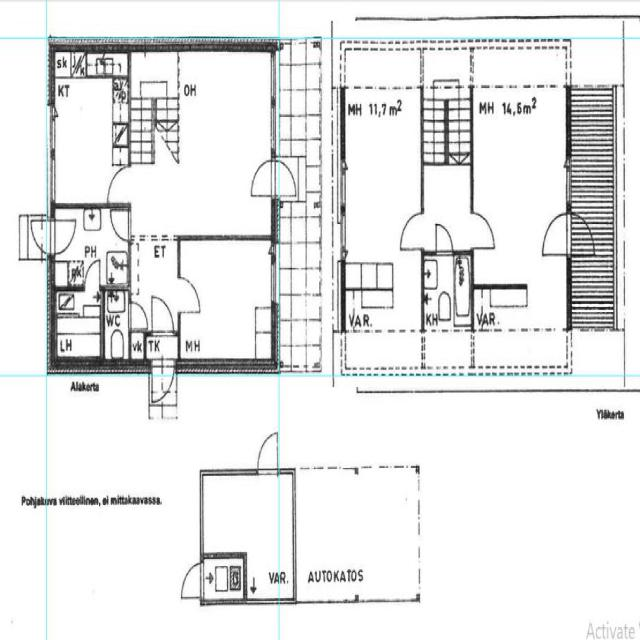door: (538, 206, 572, 259), (568, 204, 598, 258), (396, 205, 428, 255), (468, 205, 499, 252), (247, 155, 278, 200), (254, 428, 280, 477), (46, 214, 77, 255), (149, 290, 176, 336), (176, 272, 204, 316), (274, 156, 300, 202), (150, 363, 177, 405), (106, 162, 132, 204), (179, 558, 204, 601), (28, 217, 54, 254), (432, 217, 456, 256), (109, 205, 132, 243), (128, 298, 150, 334), (82, 259, 102, 290)
window: (335, 144, 351, 261), (266, 48, 281, 152), (44, 102, 59, 203), (267, 242, 281, 310), (578, 317, 614, 338), (561, 156, 574, 210)
zone: (470, 78, 571, 330), (175, 49, 274, 239), (342, 79, 424, 294), (200, 471, 294, 602), (180, 237, 273, 365), (50, 69, 128, 207), (52, 203, 132, 289), (421, 160, 474, 253), (130, 233, 182, 327), (422, 251, 470, 329), (53, 287, 102, 361), (129, 50, 179, 112), (102, 284, 130, 362), (201, 554, 245, 602)
